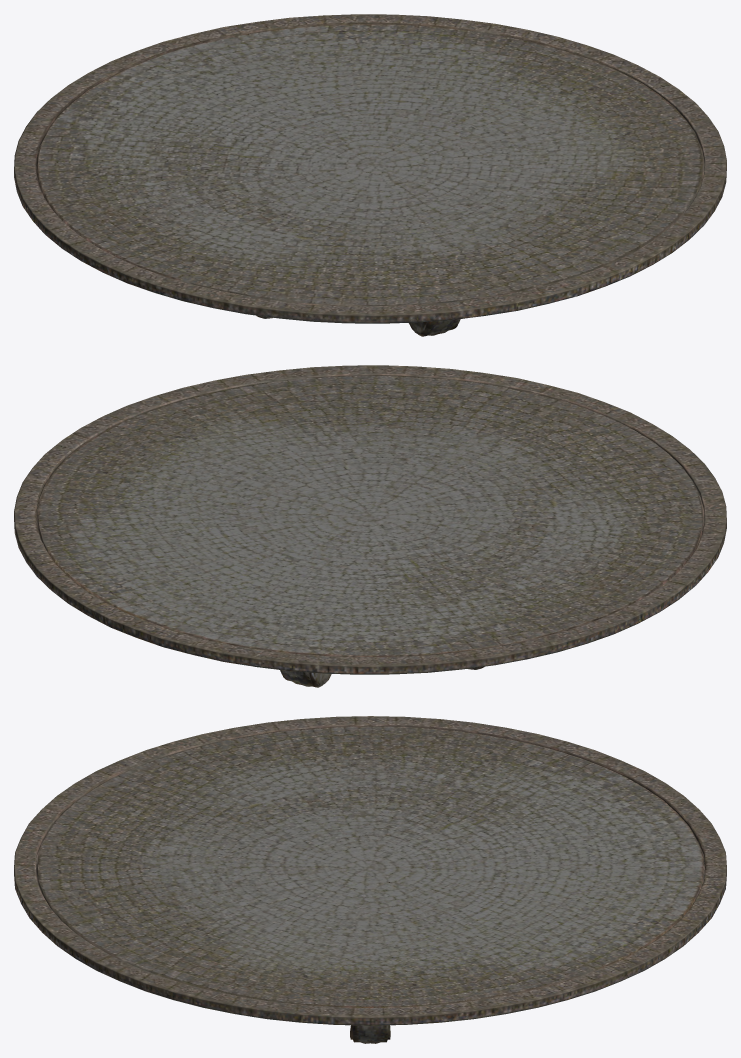
The model's file is plaza_cobblestone.glb.
3 renders of one model, top to bottom at view 1: azimuth 30°, elevation 25°; view 2: azimuth 150°, elevation 25°; view 3: azimuth 270°, elevation 25°, orthographic.
Parts seen in each view (by area): view 1: tripo_node_93dffac1-7e1d-427b-b006-33ca60cce7d4; view 2: tripo_node_93dffac1-7e1d-427b-b006-33ca60cce7d4; view 3: tripo_node_93dffac1-7e1d-427b-b006-33ca60cce7d4.
Boxes of the visible parts, x1,y1,x2,y2 form: tripo_node_93dffac1-7e1d-427b-b006-33ca60cce7d4: [14, 14, 726, 336]; tripo_node_93dffac1-7e1d-427b-b006-33ca60cce7d4: [14, 365, 726, 687]; tripo_node_93dffac1-7e1d-427b-b006-33ca60cce7d4: [14, 716, 726, 1043].
Size of the model in its own units: 0.9995 by 0.1899 by 0.9995.
Materials: 1 (1 with a texture image).
